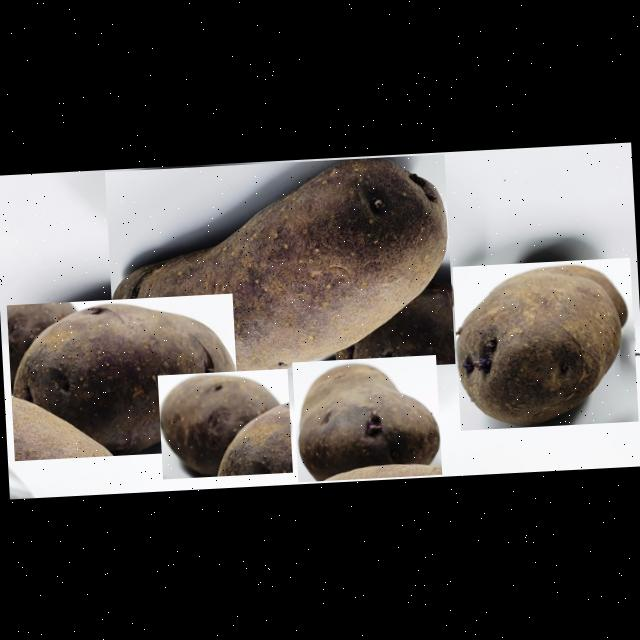Damaged potato: (103, 153, 454, 381), (6, 292, 240, 461), (452, 257, 638, 430), (291, 354, 441, 481), (157, 368, 292, 478)
